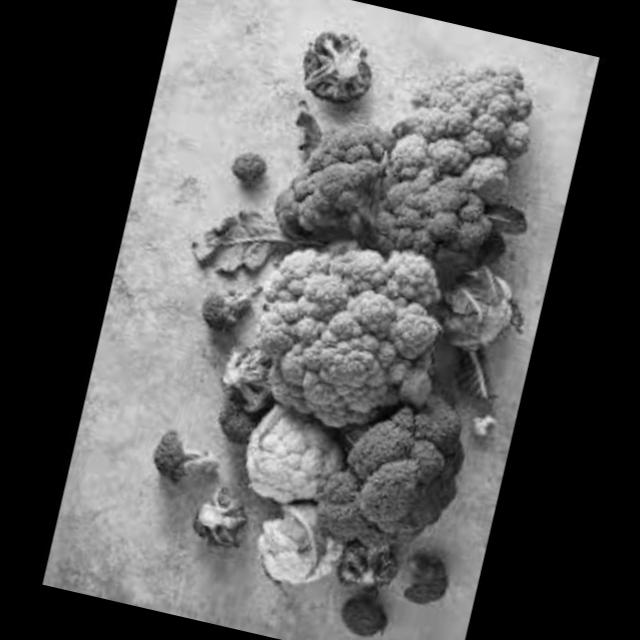bong cai xanh: (259, 123, 534, 295), (312, 386, 488, 592), (170, 280, 284, 454), (134, 421, 266, 561), (312, 534, 461, 640), (284, 17, 400, 127), (220, 133, 272, 192)
sup lo: (220, 214, 454, 438), (391, 27, 554, 189), (232, 388, 352, 505), (238, 496, 357, 603)
